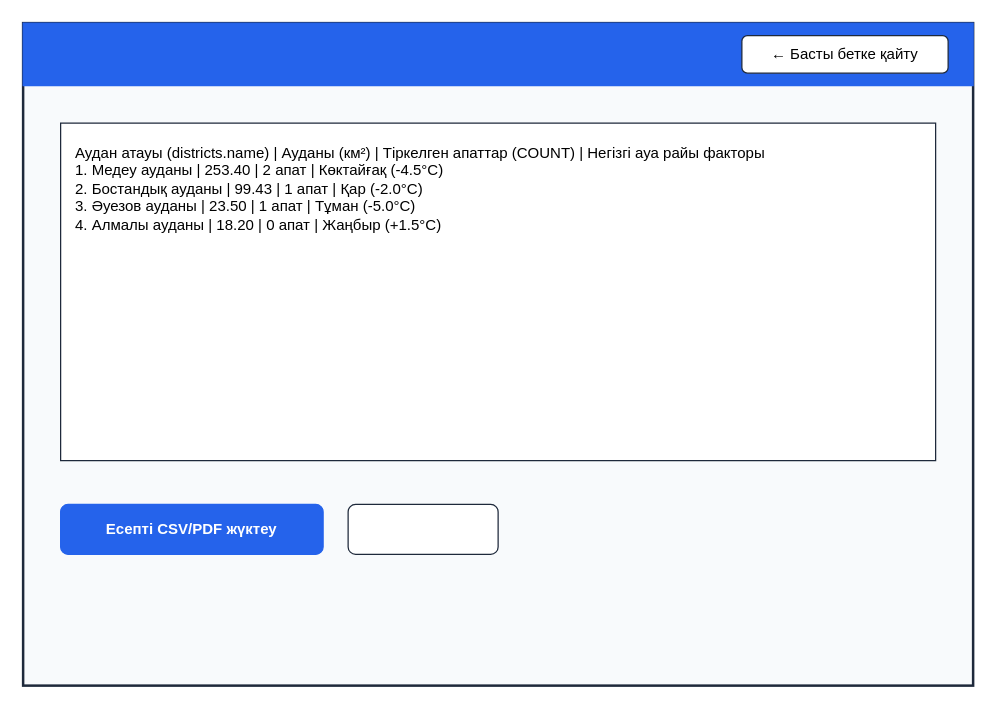
This 995x708 diagram has some shape labels left out. The shapes that lost their labels are listed below. From the top down, each one's box as (x1, y1, x2, y2) in pixels, then its label:
(22, 22, 973, 86): 5. Аудандар бойынша апаттар статистикасы (Т4, Т6)
(347, 503, 498, 554): Артқа
